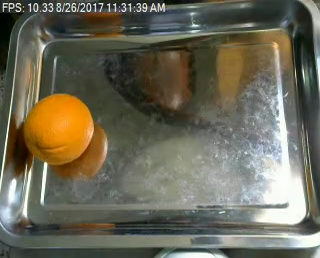Orange: (23, 92, 95, 166)
